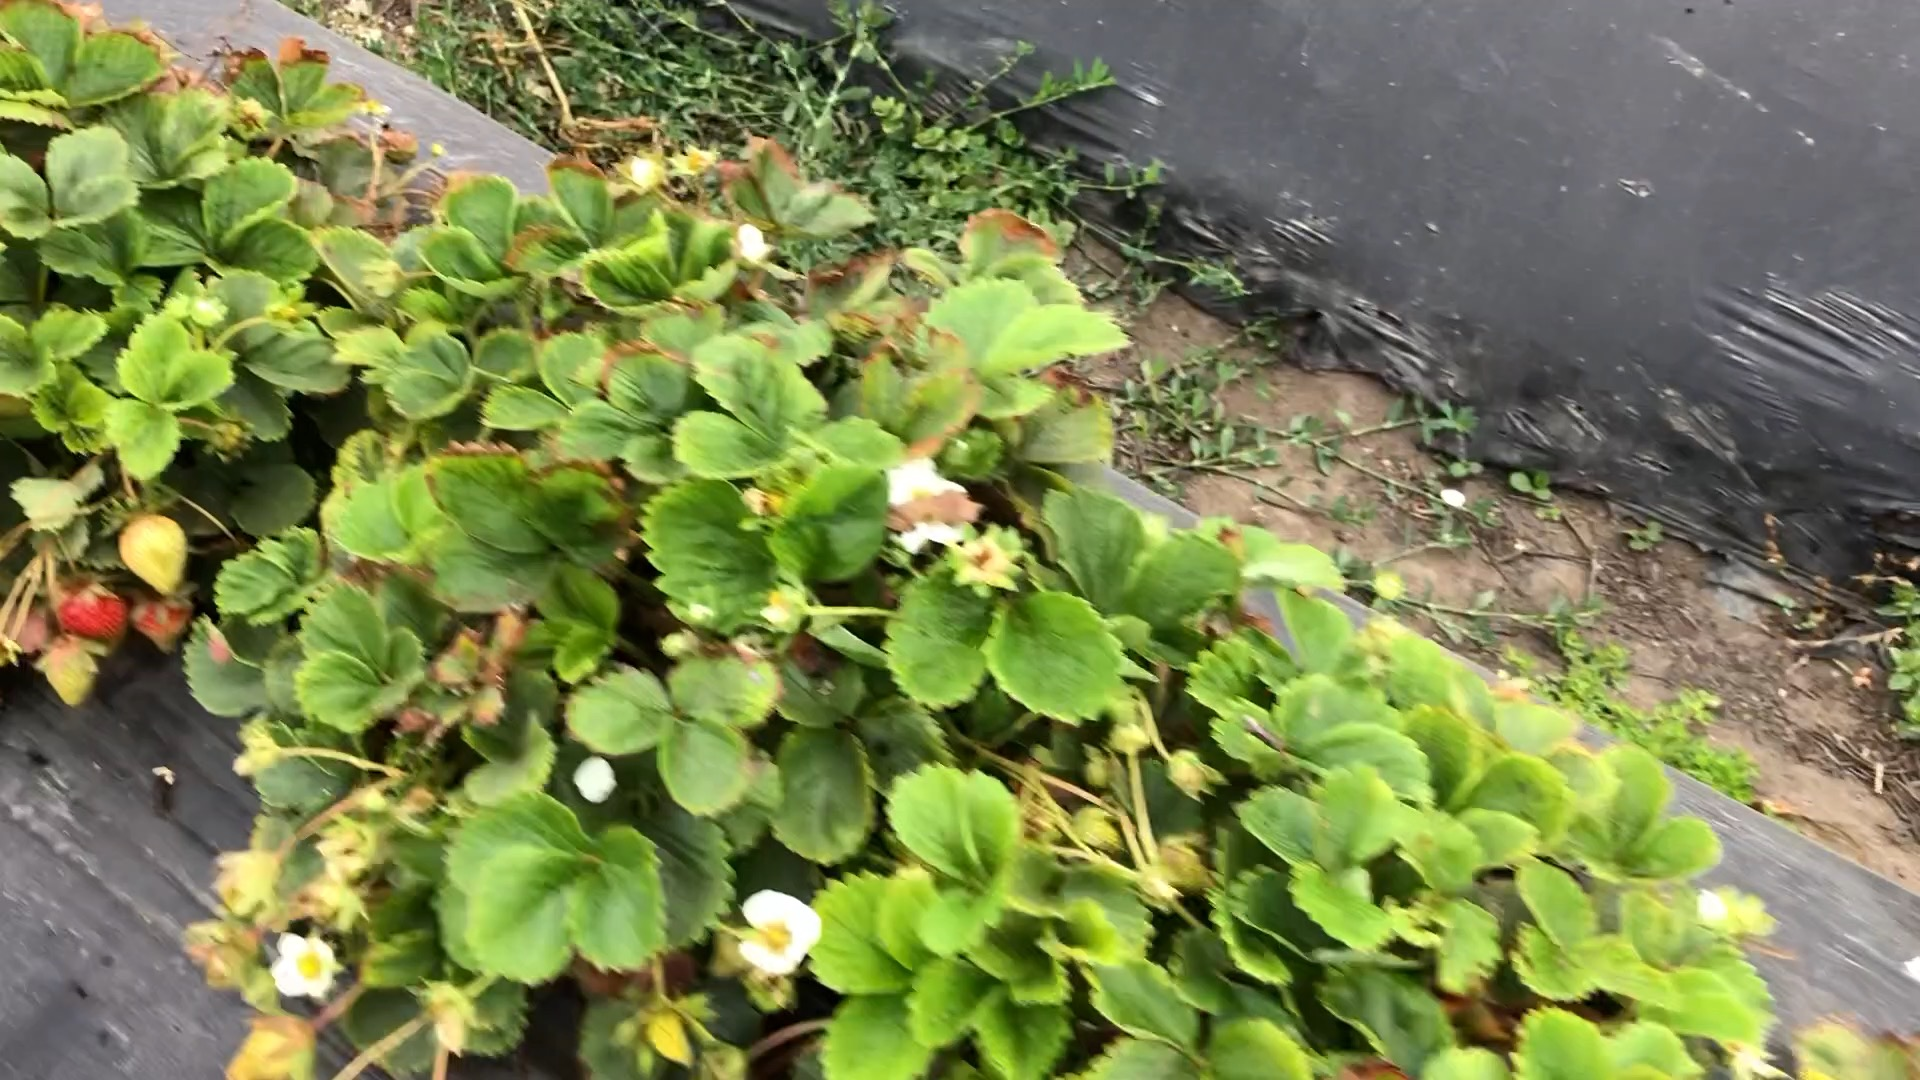ripe_strawberry: (55, 575, 131, 655)
unripe_strawberry: (113, 502, 194, 596), (222, 1015, 320, 1080), (36, 634, 107, 713), (127, 591, 202, 657)
